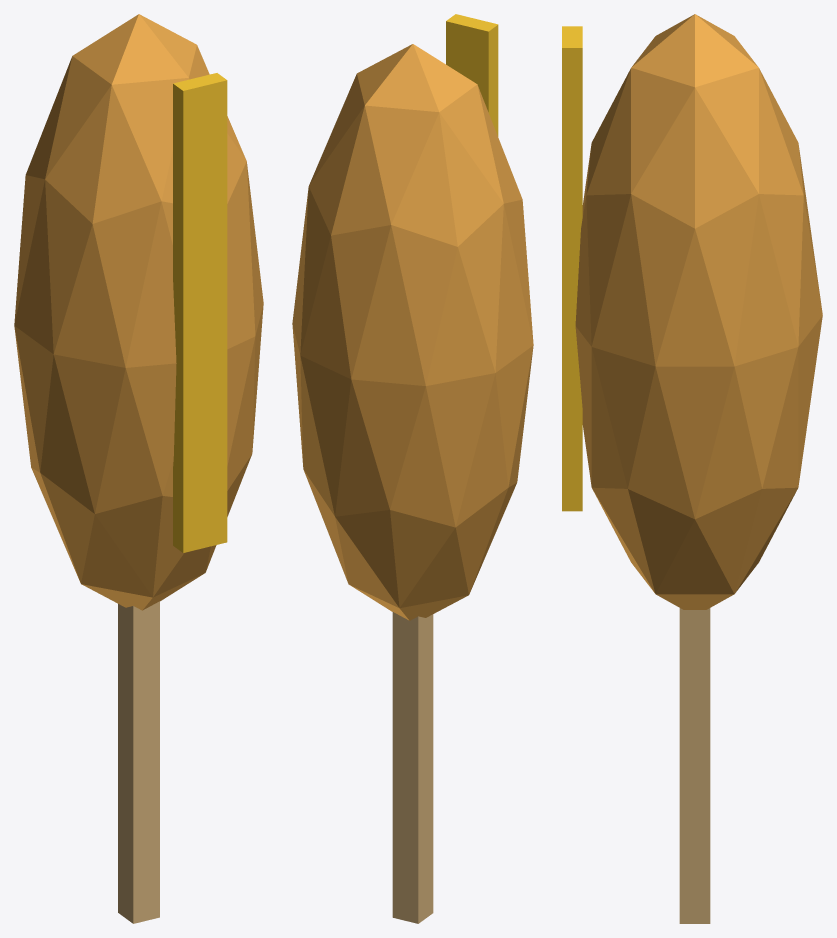
Rendered from corn_dog.glb.
3 renders of one model, left to right at view 1: azimuth 30°, elevation 25°; view 2: azimuth 150°, elevation 25°; view 3: azimuth 270°, elevation 25°, orthographic. The views are drawn at different scales.
Parts seen in each view (by area): view 1: corn_dog; view 2: corn_dog; view 3: corn_dog.
Part boxes in pixels (left/top/right/bottom): corn_dog: left=14, top=14, right=263, bottom=923; corn_dog: left=292, top=14, right=533, bottom=923; corn_dog: left=562, top=14, right=822, bottom=923.
Size of the model in its own units: 0.0476 by 0.195 by 0.051.
